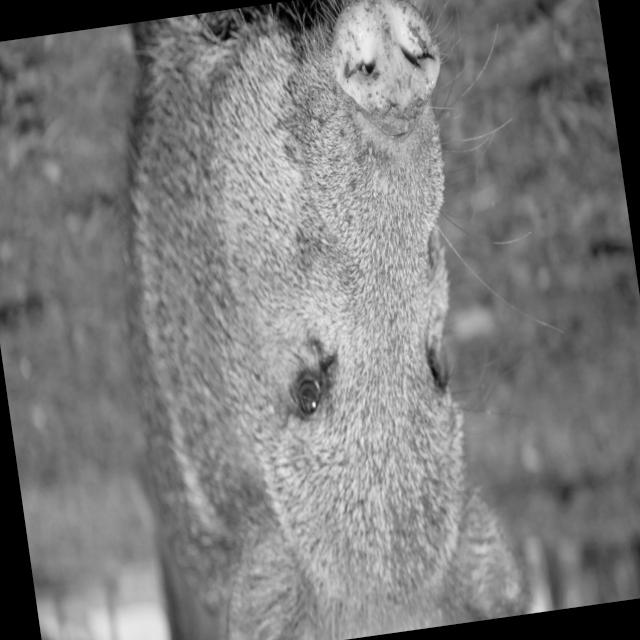pig: (124, 0, 531, 640)
